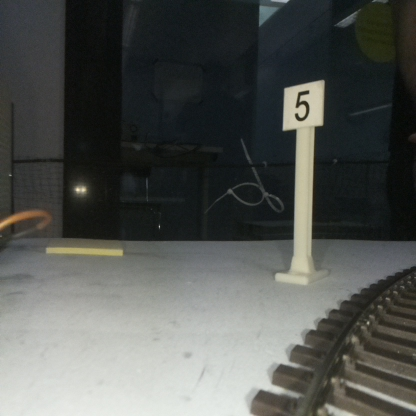white-info-5: (284, 81, 323, 279)
